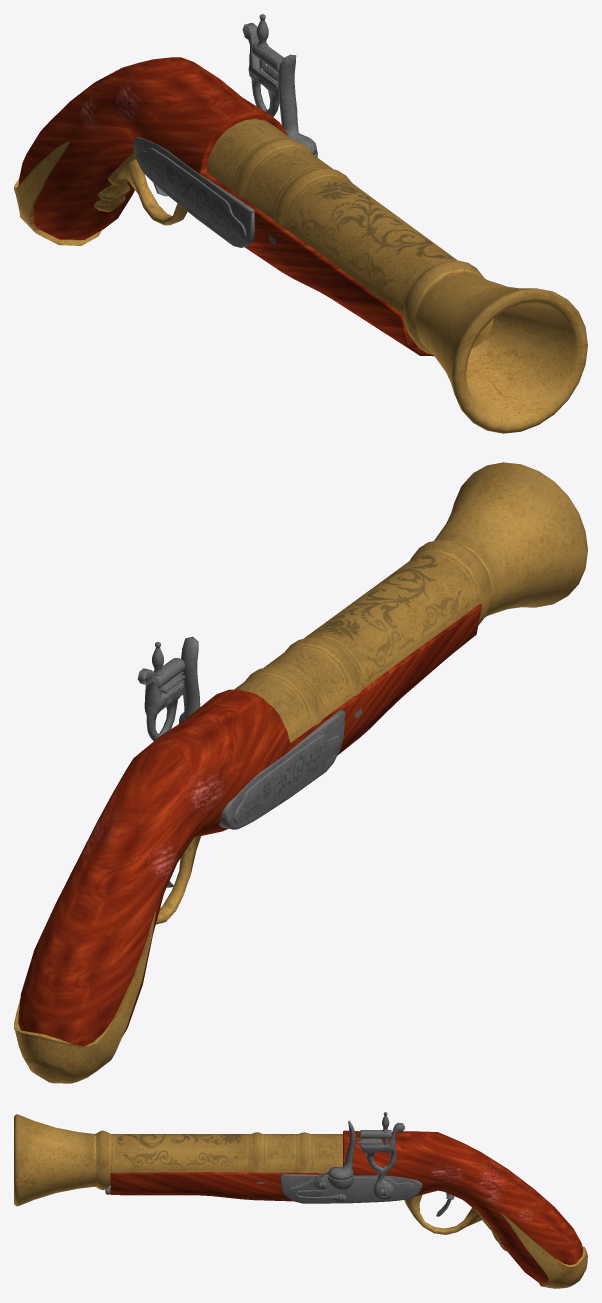
The model's file is medivalage_pistollowpolygameready.glb.
3 views of the same model, one above another, from view 1: azimuth 30°, elevation 25°; view 2: azimuth 150°, elevation 25°; view 3: azimuth 270°, elevation 25° (orthographic). The views are drawn at different scales.
Visible parts, largest first — view 1: Object_4, Object_3; view 2: Object_4; view 3: Object_4.
Boxes of the visible parts, bbox=[...] form: Object_4: bbox=[14, 14, 587, 433]; Object_3: bbox=[14, 144, 317, 245]; Object_4: bbox=[15, 462, 587, 1083]; Object_4: bbox=[14, 1112, 587, 1288].
Size of the model in its own units: 0.1218 by 0.2748 by 0.7554.
Materials: 1 (1 with a texture image).
